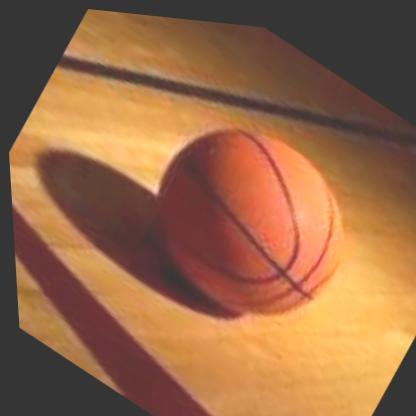basketball: (104, 69, 393, 366)
